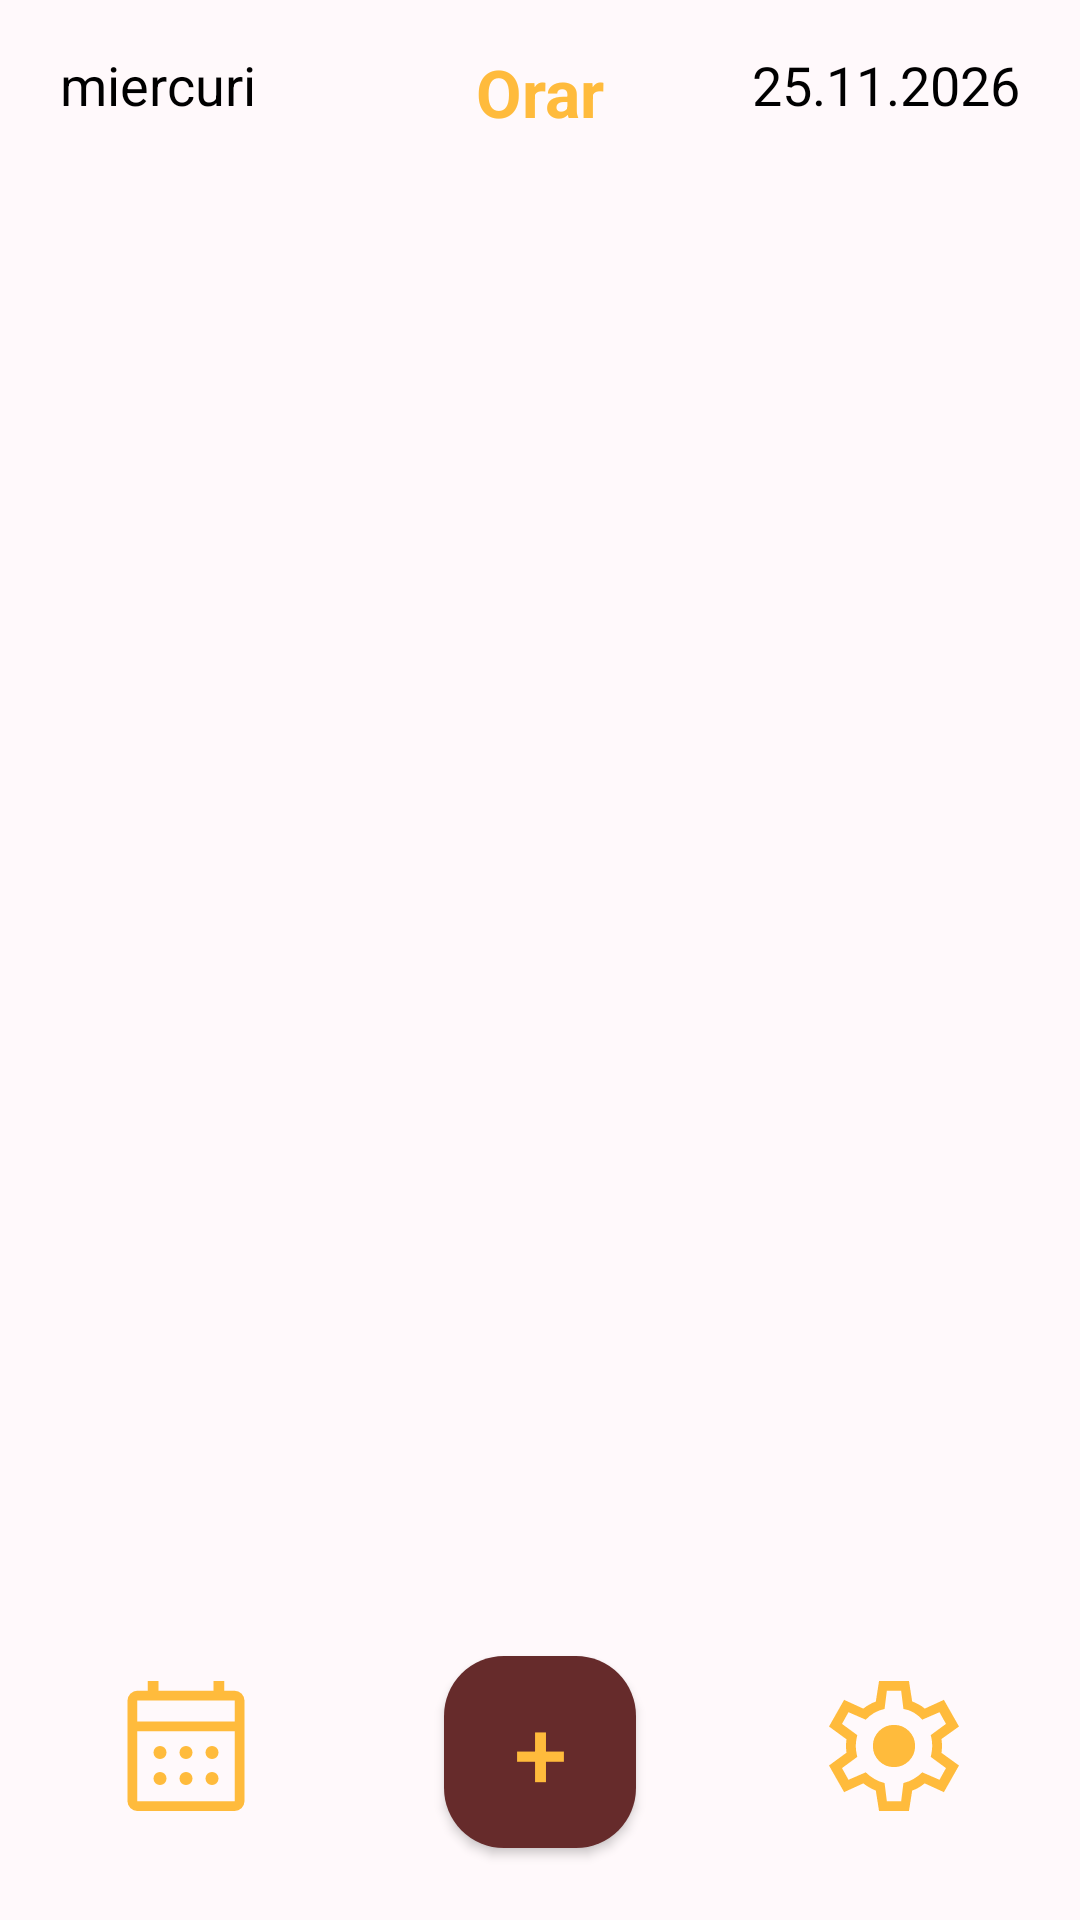

Screen size 1080×1920. Icon name, then its center in pixels as (x=x, y=y):
Calendar: (x=186, y=1746)
Settings: (x=894, y=1746)
